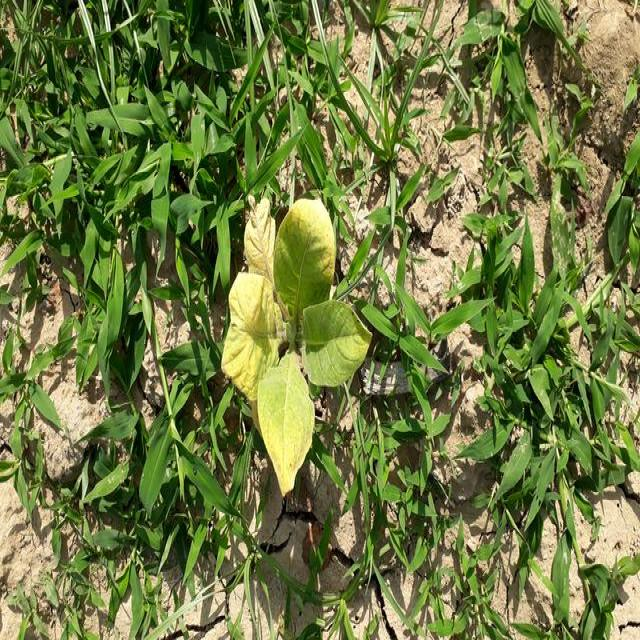crop: (228, 196, 362, 475)
